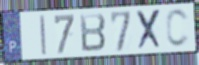7: (109, 9, 133, 53), (53, 14, 76, 55)
B: (78, 11, 107, 53)
C: (165, 7, 191, 49)
I: (39, 14, 47, 57)
X: (135, 8, 163, 52)
